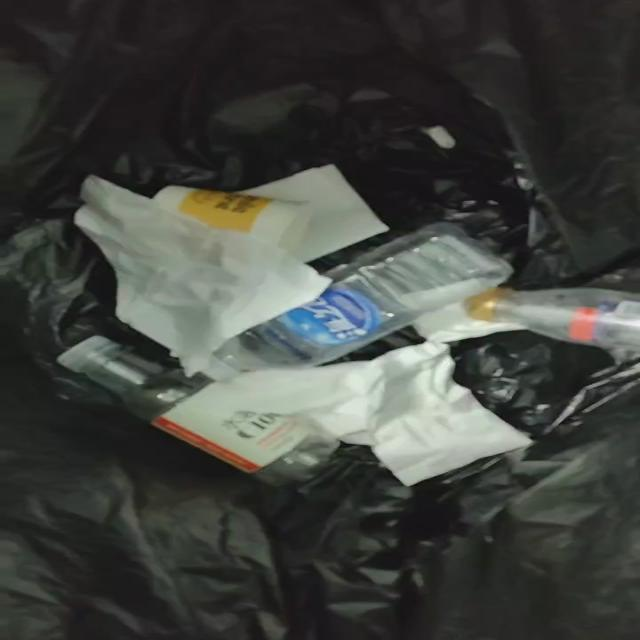bottle: (201, 223, 512, 380), (57, 336, 340, 483), (465, 288, 639, 352)
dixie_cup: (152, 186, 313, 257)
paper: (75, 178, 331, 376), (200, 342, 531, 486), (241, 165, 388, 261), (401, 278, 524, 343)
